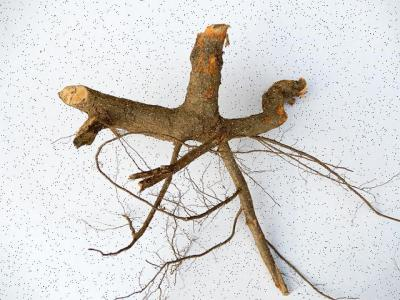Root: (58, 24, 306, 293)
